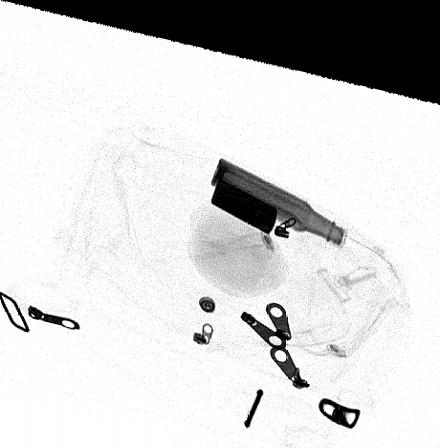Lighter: (211, 166, 279, 222)
